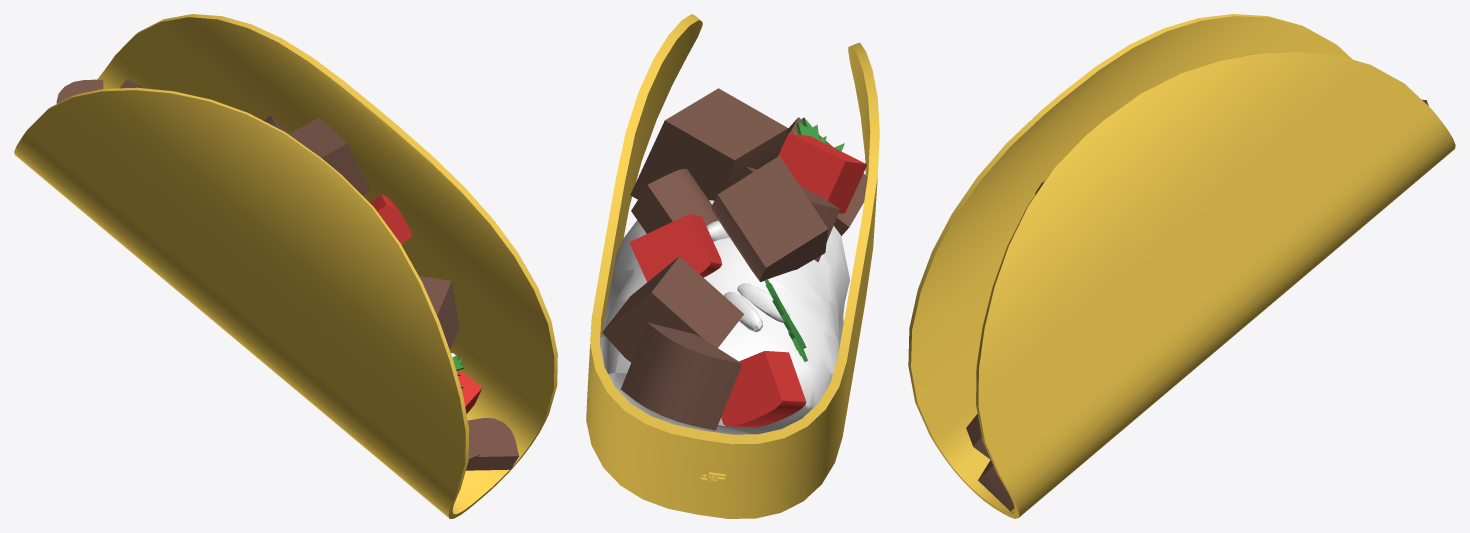
The model's file is taco.gltf.
3 views of the same model, side by side, from view 1: azimuth 30°, elevation 25°; view 2: azimuth 150°, elevation 25°; view 3: azimuth 270°, elevation 25° (orthographic). The views are drawn at different scales.
Visible parts, largest first — view 1: Cube.354; view 2: Cube.354; view 3: Cube.354.
Boxes of the visible parts, <box> form: Cube.354: <box>14,14,557,518</box>; Cube.354: <box>586,14,879,518</box>; Cube.354: <box>908,14,1455,518</box>.
Size of the model in its own units: 1.9 by 2.14 by 2.57.
1 material, 1 textured.
